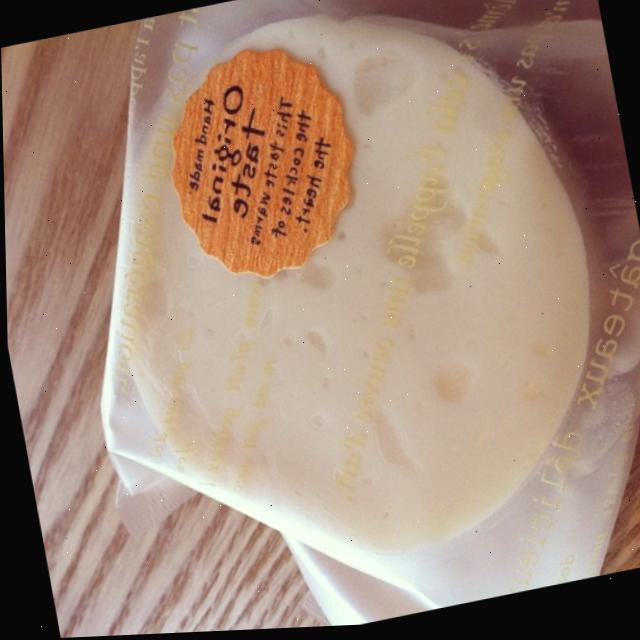猪肉菜式: (132, 56, 599, 591)
